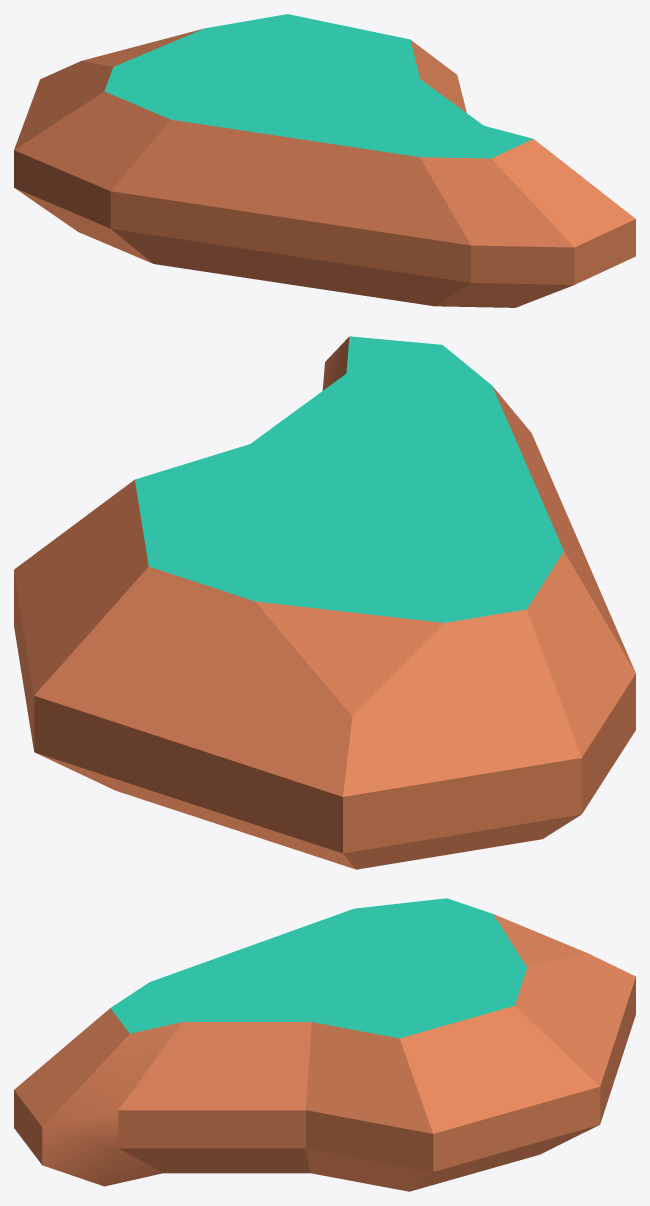
Rendered from d_kenney_rocher_a.glb.
3 views of the same model, one above another, from view 1: azimuth 30°, elevation 25°; view 2: azimuth 150°, elevation 25°; view 3: azimuth 270°, elevation 25° (orthographic). The views are drawn at different scales.
Visible parts, largest first — view 1: d_kenney_rocher_a; view 2: d_kenney_rocher_a; view 3: d_kenney_rocher_a.
Part boxes in pixels (box(x1,y1,x2,y2)): d_kenney_rocher_a: box(14, 14, 635, 307); d_kenney_rocher_a: box(14, 336, 635, 869); d_kenney_rocher_a: box(14, 898, 635, 1191).
Size of the model in its own units: 0.7849 by 0.2597 by 1.02.
Materials: 1 (1 with a texture image).
